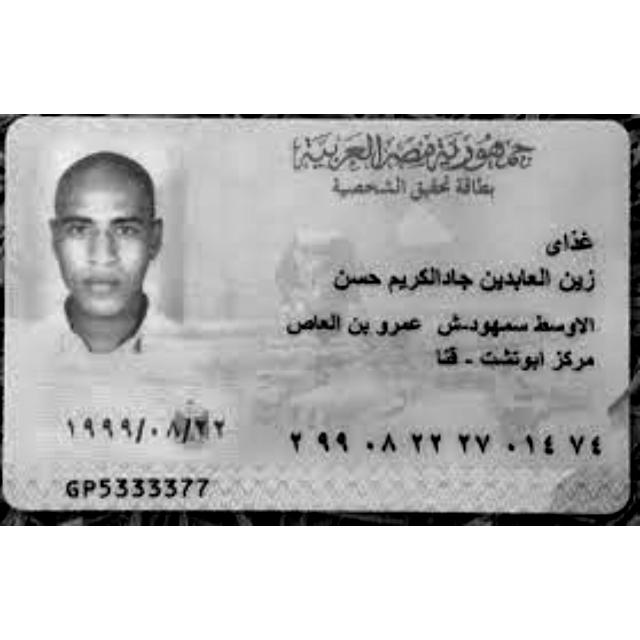id_card: (0, 116, 638, 513)
